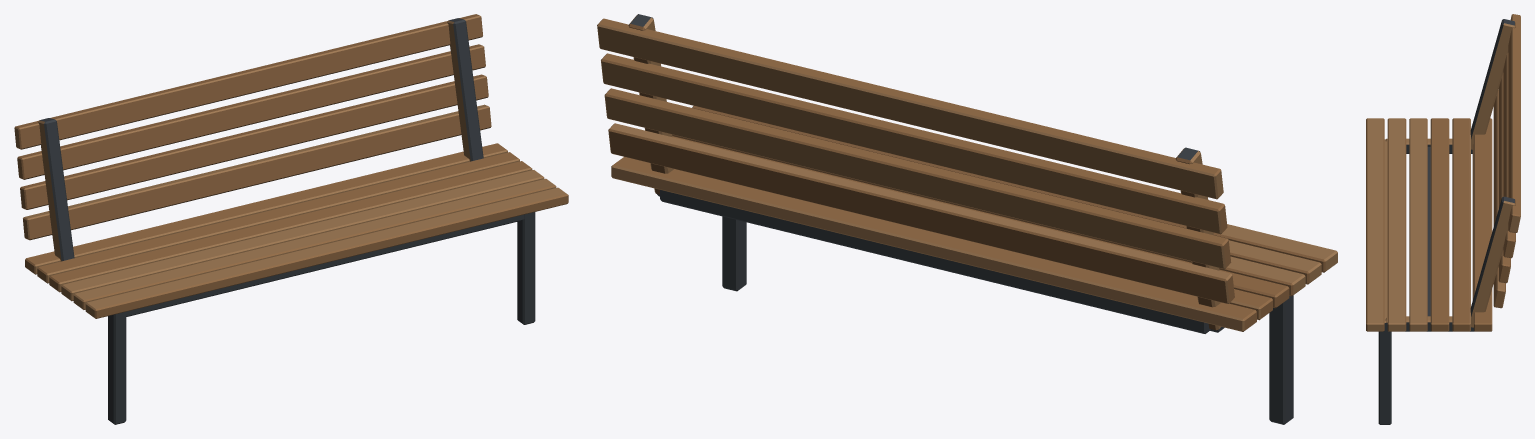
File: 0-20261016-1900-ev004-r01-lobby-bench.fbx
3 renders of one model, left to right at view 1: azimuth 30°, elevation 25°; view 2: azimuth 150°, elevation 25°; view 3: azimuth 270°, elevation 25°, orthographic. The views are drawn at different scales.
Parts seen in each view (by area): view 1: SW_Lobby_Bench; view 2: SW_Lobby_Bench; view 3: SW_Lobby_Bench.
Boxes of the visible parts, x1=… form: SW_Lobby_Bench: x1=14, y1=14, x2=568, y2=424; SW_Lobby_Bench: x1=597, y1=14, x2=1337, y2=424; SW_Lobby_Bench: x1=1366, y1=14, x2=1520, y2=424.
Bounding box in the file's own units: 176 × 89.5 × 56.
